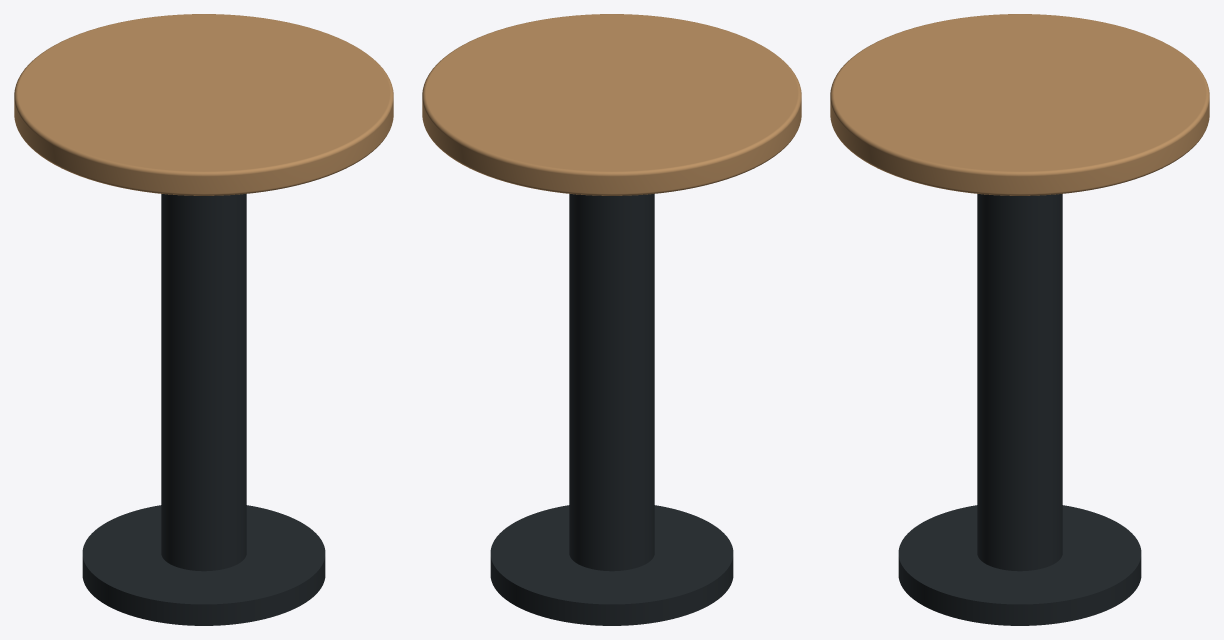
The model's file is sideTable-1.glb.
The picture shows the model from 3 angles, left to right: view 1: azimuth 30°, elevation 25°; view 2: azimuth 150°, elevation 25°; view 3: azimuth 270°, elevation 25°; orthographic projection.
Parts seen in each view (by area): view 1: sideTable:1:archviz; view 2: sideTable:1:archviz; view 3: sideTable:1:archviz.
Part boxes in pixels (x1,y1,x2,y2): sideTable:1:archviz: (14, 14, 393, 625); sideTable:1:archviz: (422, 14, 801, 625); sideTable:1:archviz: (830, 14, 1209, 625).
Size of the model in its own units: 0.4 by 0.56 by 0.4.
